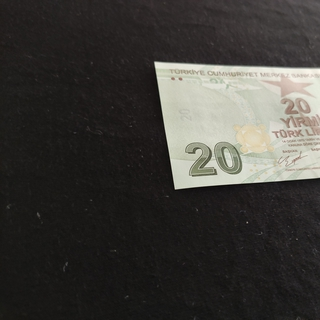20TLFront: (153, 61, 320, 189)
